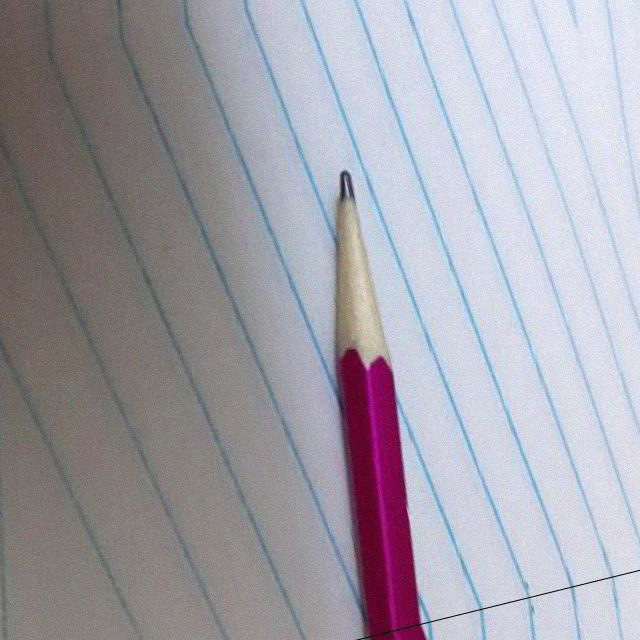pencil: (292, 156, 420, 381)
